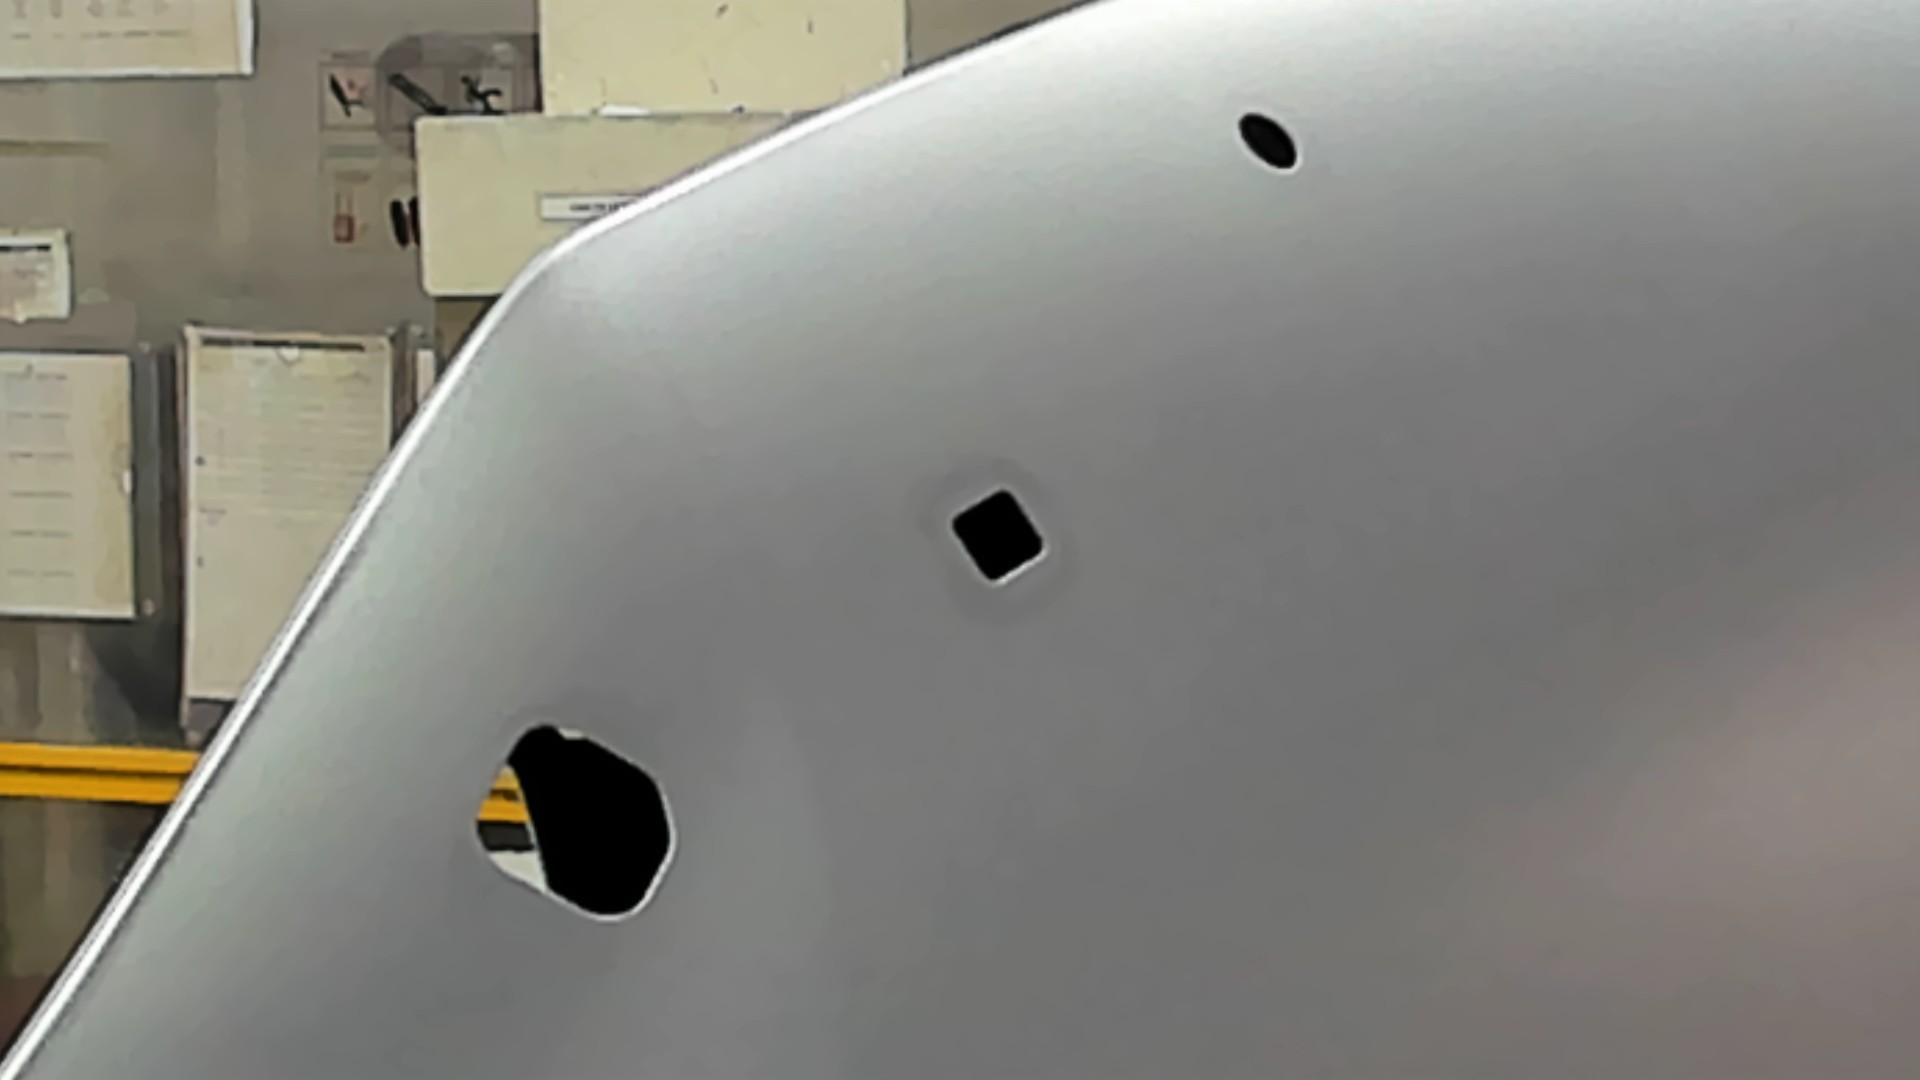chico: (1236, 108, 1302, 171)
grande: (469, 717, 680, 926)
mediano: (948, 484, 1052, 587)
